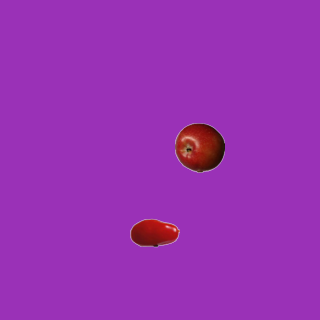Apple Braeburn: (174, 122, 224, 172)
Tomato 2: (129, 207, 179, 257)
